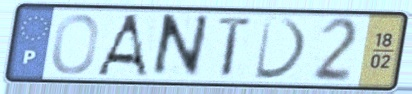2: (310, 15, 361, 85)
A: (93, 11, 151, 80)
D: (252, 15, 311, 82)
N: (147, 12, 213, 81)
O: (49, 11, 102, 77)
T: (215, 14, 257, 81)
